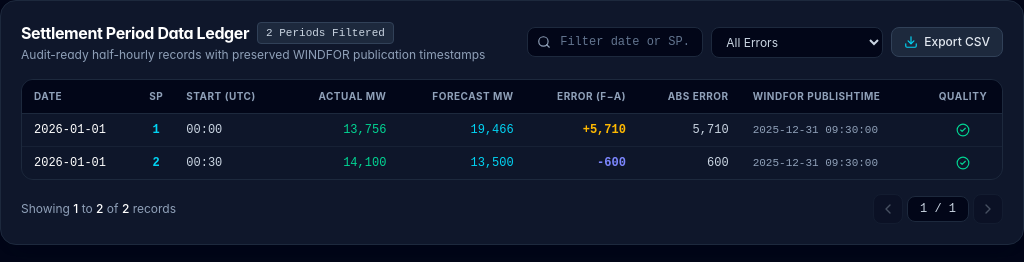
Test: SettlementTable Component › renders records, displays formatted numbers, and filters by search term
This screenshot has width=1024, height=262.
Expected: the text "13,756" is shown, [287,114,398,147]
Expected: the text "19,466" is shown, [398,114,526,147]
Test search filter
Type "SP2" into the field with placeholder "Filter date or SP..." at (615, 42), box [527,27,703,57]
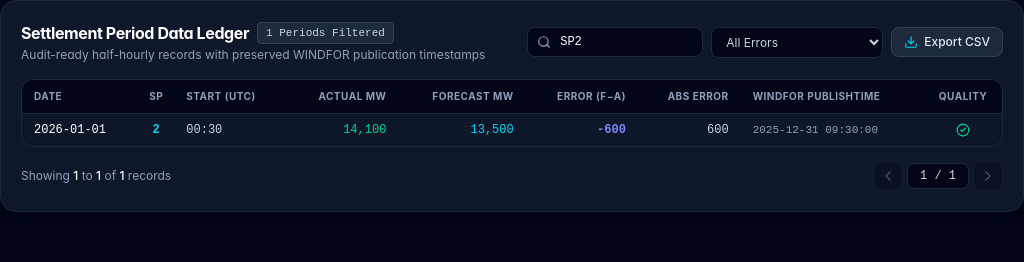
Expected: the text "-600" is shown, [597,123,626,137]
Now the text "+5,710" is gone
